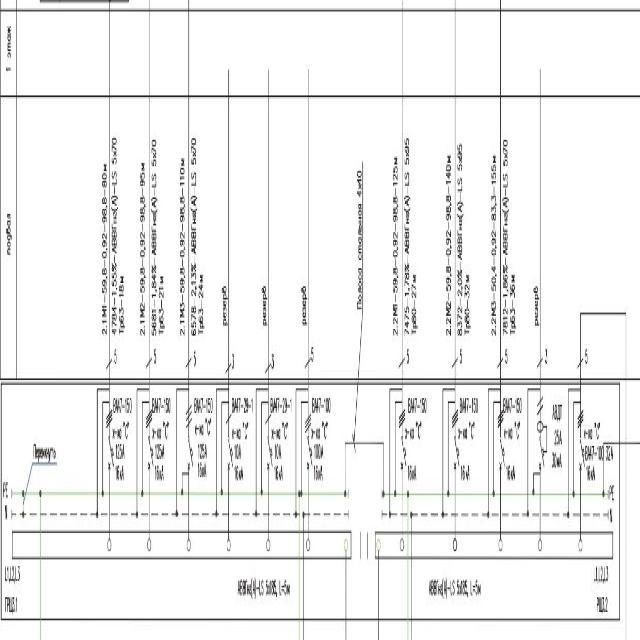-: (583, 420, 615, 484), (270, 396, 292, 486), (502, 396, 524, 486), (232, 396, 253, 486), (458, 396, 479, 486), (193, 394, 214, 483), (112, 394, 133, 483), (152, 395, 172, 484), (408, 395, 428, 484), (312, 396, 332, 484), (550, 399, 564, 471), (3, 591, 19, 618)
QF: (576, 407, 585, 475), (452, 407, 461, 475), (185, 405, 194, 472), (398, 408, 407, 475), (225, 409, 234, 473), (264, 412, 273, 476), (106, 407, 114, 475), (497, 407, 505, 475), (145, 407, 153, 475), (305, 412, 313, 480)
QFD: (536, 394, 548, 473)
